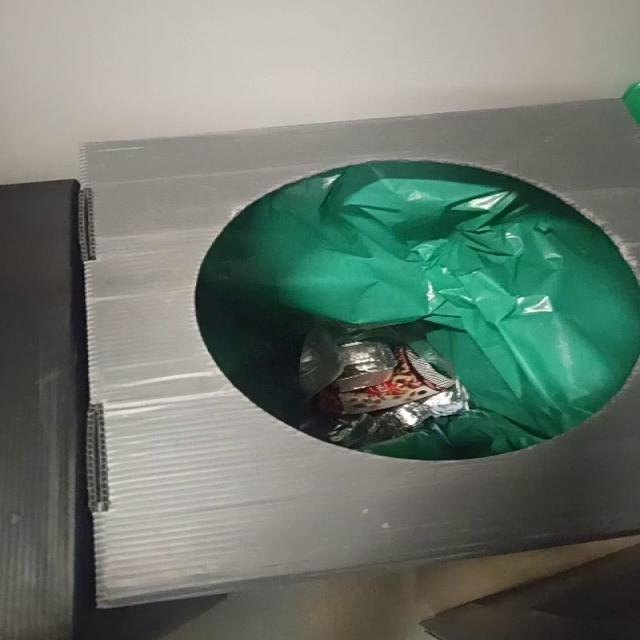bin: (80, 100, 639, 608)
metal: (332, 342, 397, 392)
